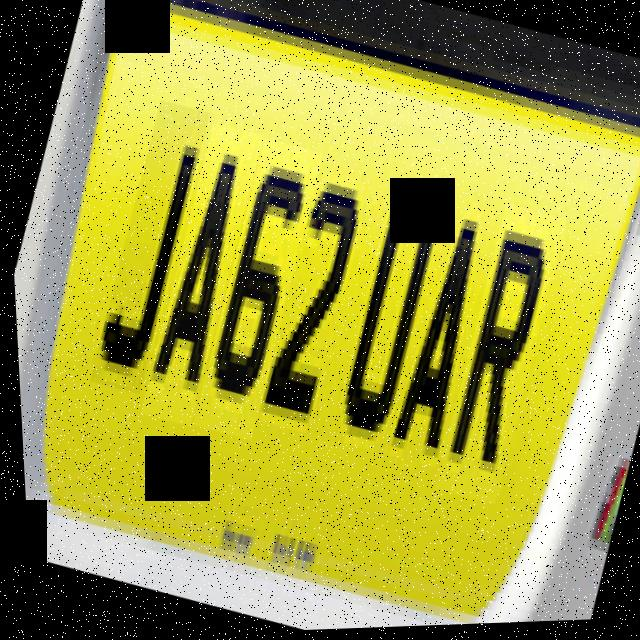6: (175, 138, 333, 445)
A: (124, 123, 273, 431), (368, 189, 515, 488)
J: (74, 100, 220, 396)
R: (417, 205, 575, 510)
U: (309, 174, 460, 464)
